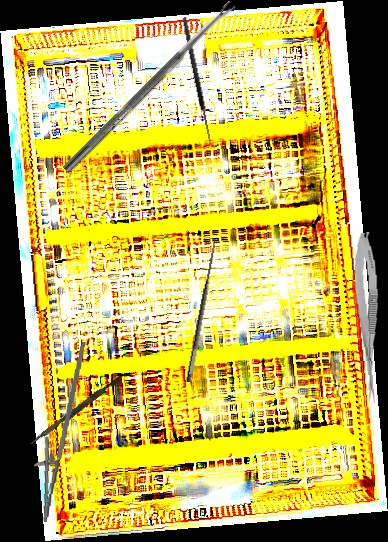Hook Surgical: (174, 236, 222, 383), (180, 15, 221, 149)
Micro Scissor: (350, 231, 387, 405)
Needle Holder: (29, 338, 86, 525)
Pusher: (29, 373, 123, 449)
Surgical Spoon: (62, 0, 237, 175)
